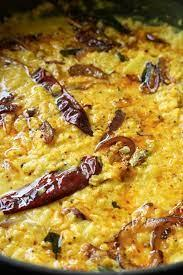Dhal Curry: (6, 7, 177, 269)
